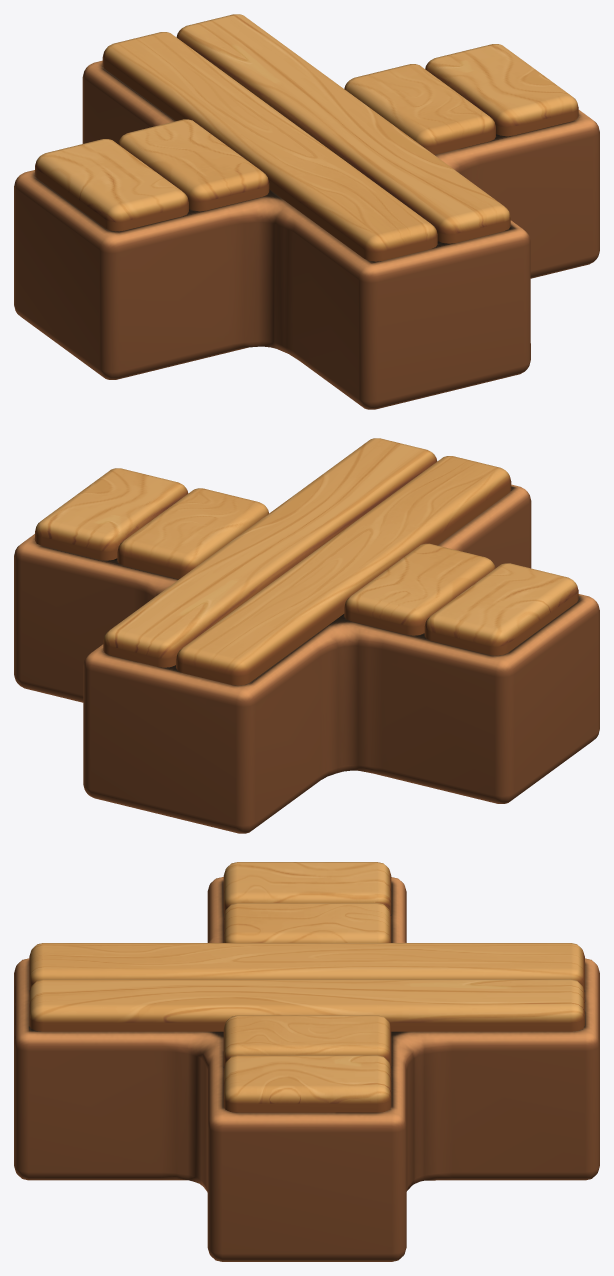
The model's file is WoodenBox_Plus_3x3.fbx.
3 renders of one model, top to bottom at view 1: azimuth 30°, elevation 25°; view 2: azimuth 150°, elevation 25°; view 3: azimuth 270°, elevation 25°, orthographic.
Visible parts, largest first — view 1: box_plus_3x3; view 2: box_plus_3x3; view 3: box_plus_3x3.
Part boxes in pixels (box(x1,y1,x2,y2)): box_plus_3x3: box(14, 14, 599, 409); box_plus_3x3: box(14, 438, 599, 833); box_plus_3x3: box(14, 862, 599, 1261).
Size of the model in its own units: 3.02 by 0.9612 by 3.02.
